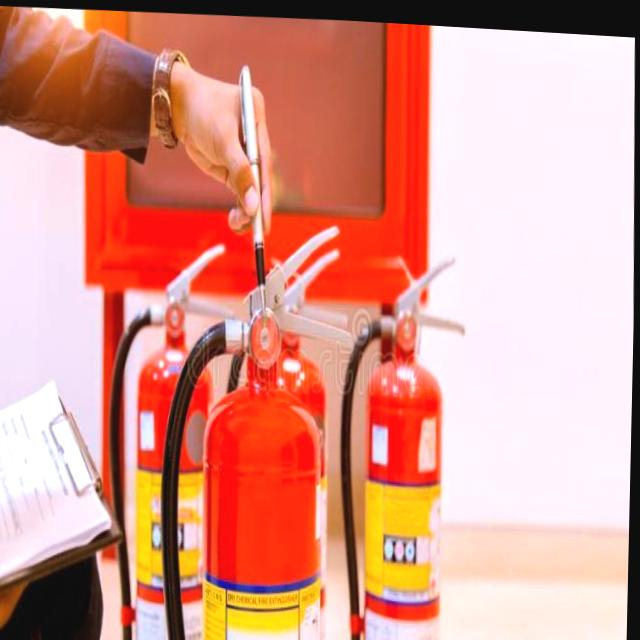FireExtinguisher: (156, 205, 372, 640), (91, 224, 244, 640), (334, 238, 480, 640)
